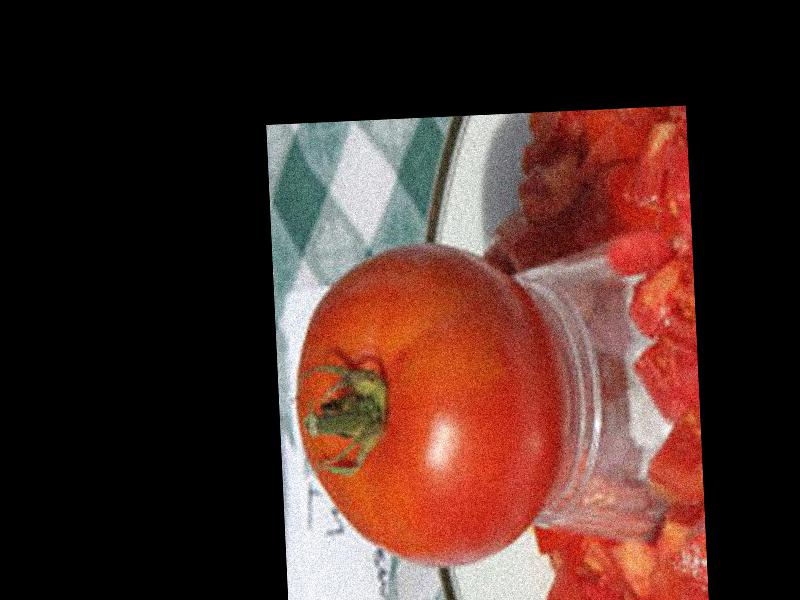Tomato: (286, 236, 570, 576)
